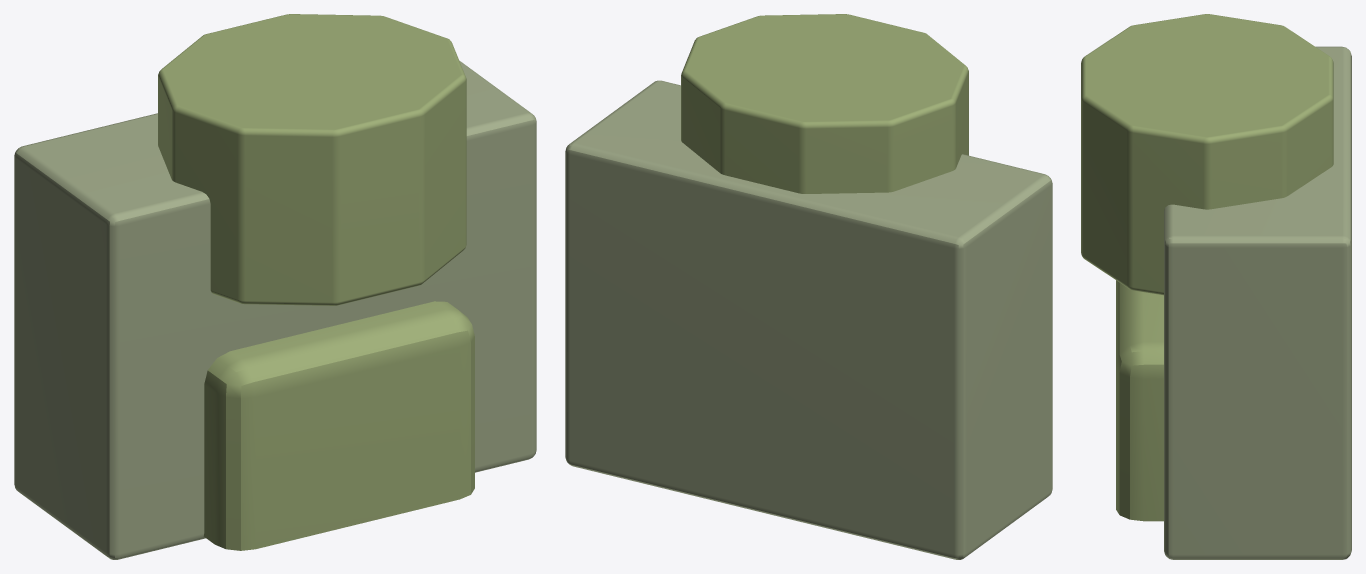
3 renders of one model, left to right at view 1: azimuth 30°, elevation 25°; view 2: azimuth 150°, elevation 25°; view 3: azimuth 270°, elevation 25°, orthographic. The views are drawn at different scales.
Parts seen in each view (by area): view 1: pCylinder19; view 2: pCylinder19; view 3: pCylinder19.
Part boxes in pixels (x1,y1,x2,y2): pCylinder19: (14, 14, 536, 559); pCylinder19: (565, 14, 1052, 559); pCylinder19: (1081, 14, 1351, 559).
Size of the model in its own units: 63.51 by 59.56 by 37.09.
